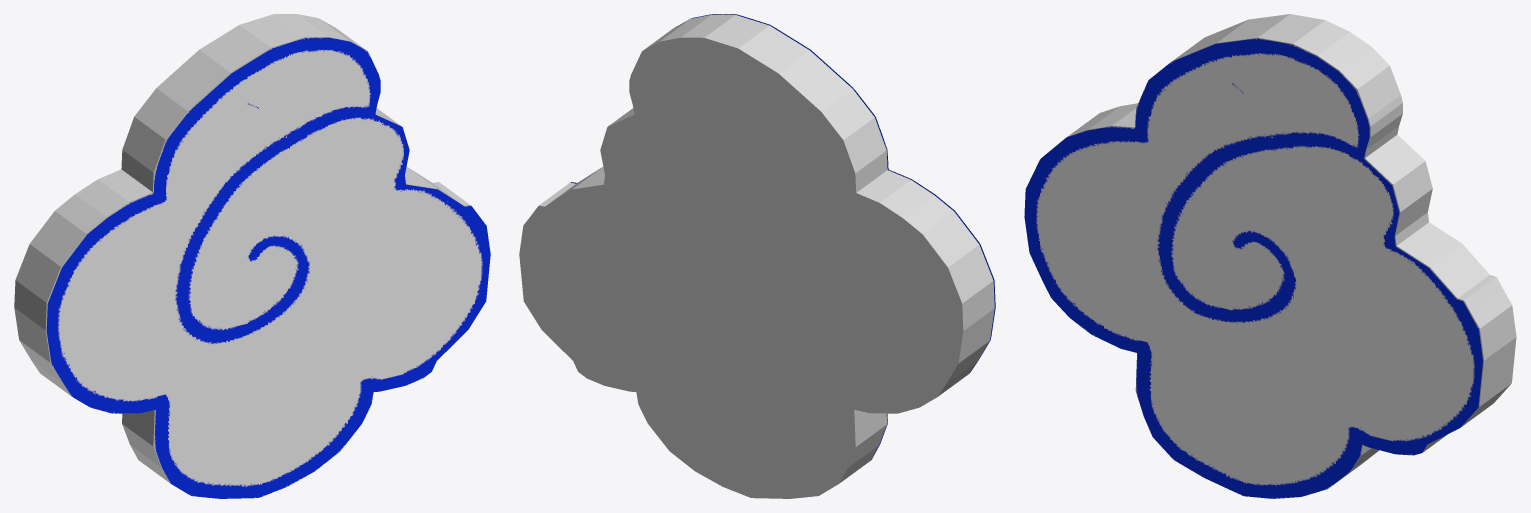
3 views of the same model, side by side, from view 1: azimuth 30°, elevation 25°; view 2: azimuth 150°, elevation 25°; view 3: azimuth 330°, elevation 25° (orthographic). The views are drawn at different scales.
Visible parts, largest first — view 1: In_2_1, In_2_0; view 2: In_2_0, In_2_1; view 3: In_2_1, In_2_0.
Boxes of the visible parts, x1=… form: In_2_1: x1=46, y1=37, x2=490, y2=498; In_2_0: x1=14, y1=14, x2=470, y2=483; In_2_0: x1=519, y1=14, x2=994, y2=498; In_2_1: x1=571, y1=14, x2=995, y2=460; In_2_1: x1=1024, y1=38, x2=1482, y2=498; In_2_0: x1=1067, y1=14, x2=1516, y2=485.
Size of the model in its own units: 4.08 by 3.94 by 0.515.
2 materials, 1 textured.
